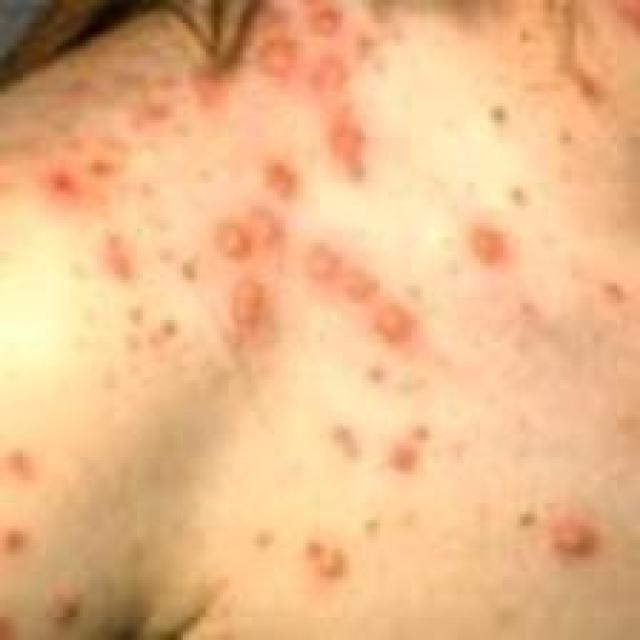others: (30, 72, 640, 640)
